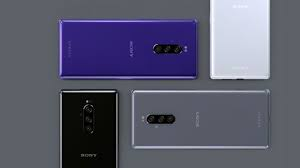sony: (131, 87, 275, 151), (56, 18, 200, 82), (60, 89, 116, 168)
